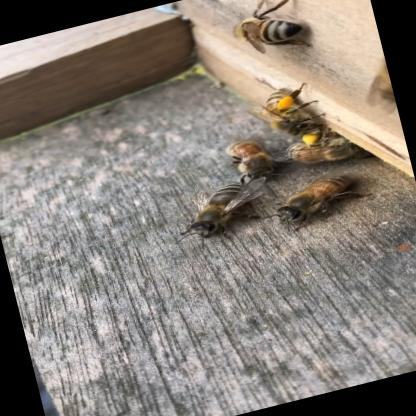bee: (212, 70, 378, 183), (255, 154, 398, 242), (202, 0, 329, 87), (161, 162, 276, 250), (360, 33, 400, 122)
